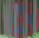No Stopping: (3, 0, 38, 36)
